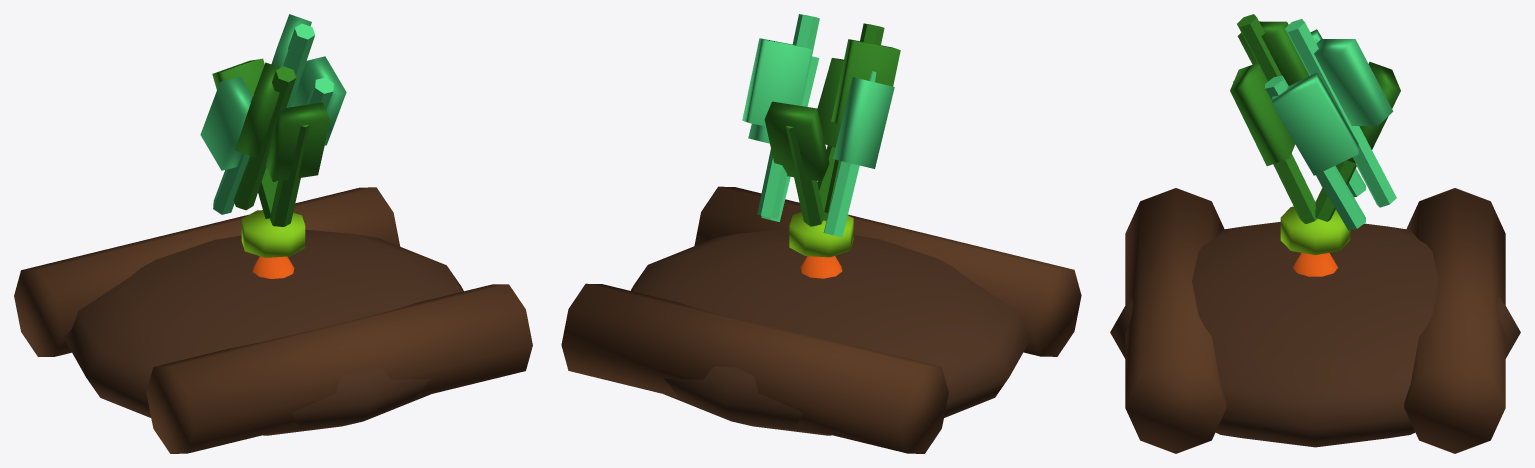
File: zanahoria_huerto.glb
The picture shows the model from 3 angles, left to right: view 1: azimuth 30°, elevation 25°; view 2: azimuth 150°, elevation 25°; view 3: azimuth 270°, elevation 25°; orthographic projection. The views are drawn at different scales.
Parts seen in each view (by area): view 1: Surco_Tierra_Base, Surco_Tierra_Cordon_0, Surco_Tierra_Cordon_1, Zanahoria_Hojas_Penacho_0, Zanahoria_Hojas_Penacho_2, Zanahoria_Fruto_Cuello, Zanahoria_Hojas_Tallo_4, Zanahoria_Hojas_Penacho_4, Zanahoria_Hojas_Penacho_3, Zanahoria_Hojas_Tallo_0, Zanahoria_Hojas_Tallo_5, Zanahoria_Hojas_Tallo_2 (+5 smaller); view 2: Surco_Tierra_Base, Surco_Tierra_Cordon_1, Surco_Tierra_Cordon_0, Zanahoria_Hojas_Penacho_5, Zanahoria_Hojas_Penacho_2, Zanahoria_Hojas_Penacho_1, Zanahoria_Hojas_Penacho_4, Zanahoria_Hojas_Tallo_5, Zanahoria_Fruto_Cuello, Zanahoria_Hojas_Tallo_2, Zanahoria_Hojas_Tallo_1, Zanahoria_Hojas_Penacho_0 (+4 smaller); view 3: Surco_Tierra_Base, Surco_Tierra_Cordon_0, Surco_Tierra_Cordon_1, Zanahoria_Hojas_Penacho_3, Zanahoria_Hojas_Penacho_5, Zanahoria_Hojas_Penacho_0, Zanahoria_Hojas_Tallo_5, Zanahoria_Fruto_Cuello, Zanahoria_Hojas_Tallo_3, Zanahoria_Hojas_Penacho_4, Zanahoria_Hojas_Tallo_0, Zanahoria_Hojas_Tallo_4 (+3 smaller).
Part boxes in pixels (x1=…): Surco_Tierra_Base: x1=64, y1=229, x2=463, y2=435; Surco_Tierra_Cordon_0: x1=146, y1=284, x2=532, y2=453; Surco_Tierra_Cordon_1: x1=14, y1=187, x2=400, y2=356; Zanahoria_Hojas_Penacho_0: x1=266, y1=102, x2=330, y2=181; Zanahoria_Hojas_Penacho_2: x1=200, y1=77, x2=252, y2=170; Zanahoria_Fruto_Cuello: x1=241, y1=210, x2=305, y2=257; Zanahoria_Hojas_Tallo_4: x1=233, y1=66, x2=296, y2=210; Zanahoria_Hojas_Penacho_4: x1=235, y1=62, x2=280, y2=158; Zanahoria_Hojas_Penacho_3: x1=291, y1=56, x2=346, y2=145; Zanahoria_Hojas_Tallo_0: x1=269, y1=124, x2=309, y2=226; Zanahoria_Hojas_Tallo_5: x1=283, y1=23, x2=314, y2=107; Zanahoria_Hojas_Tallo_2: x1=213, y1=95, x2=253, y2=214; Surco_Tierra_Base: x1=630, y1=229, x2=1030, y2=435; Surco_Tierra_Cordon_1: x1=561, y1=283, x2=948, y2=453; Surco_Tierra_Cordon_0: x1=694, y1=186, x2=1081, y2=356; Zanahoria_Hojas_Penacho_5: x1=742, y1=38, x2=811, y2=126; Zanahoria_Hojas_Penacho_2: x1=833, y1=77, x2=894, y2=168; Zanahoria_Hojas_Penacho_1: x1=764, y1=101, x2=829, y2=181; Zanahoria_Hojas_Penacho_4: x1=831, y1=39, x2=900, y2=124; Zanahoria_Hojas_Tallo_5: x1=757, y1=14, x2=819, y2=218; Zanahoria_Fruto_Cuello: x1=789, y1=212, x2=853, y2=257; Zanahoria_Hojas_Tallo_2: x1=823, y1=71, x2=876, y2=237; Zanahoria_Hojas_Tallo_1: x1=785, y1=126, x2=824, y2=226; Zanahoria_Hojas_Penacho_0: x1=817, y1=58, x2=843, y2=147; Surco_Tierra_Base: x1=1110, y1=222, x2=1520, y2=447; Surco_Tierra_Cordon_0: x1=1125, y1=188, x2=1226, y2=453; Surco_Tierra_Cordon_1: x1=1404, y1=188, x2=1505, y2=453; Zanahoria_Hojas_Penacho_3: x1=1272, y1=73, x2=1358, y2=175; Zanahoria_Hojas_Penacho_5: x1=1314, y1=39, x2=1393, y2=126; Zanahoria_Hojas_Penacho_0: x1=1230, y1=63, x2=1295, y2=166; Zanahoria_Hojas_Tallo_5: x1=1285, y1=19, x2=1396, y2=207; Zanahoria_Fruto_Cuello: x1=1280, y1=206, x2=1350, y2=254; Zanahoria_Hojas_Tallo_3: x1=1265, y1=75, x2=1365, y2=230; Zanahoria_Hojas_Penacho_4: x1=1237, y1=21, x2=1309, y2=85; Zanahoria_Hojas_Tallo_0: x1=1233, y1=81, x2=1317, y2=223; Zanahoria_Hojas_Tallo_4: x1=1237, y1=14, x2=1322, y2=187.
Bounding box in the file's own units: 0.72 × 0.6764 × 0.648.
